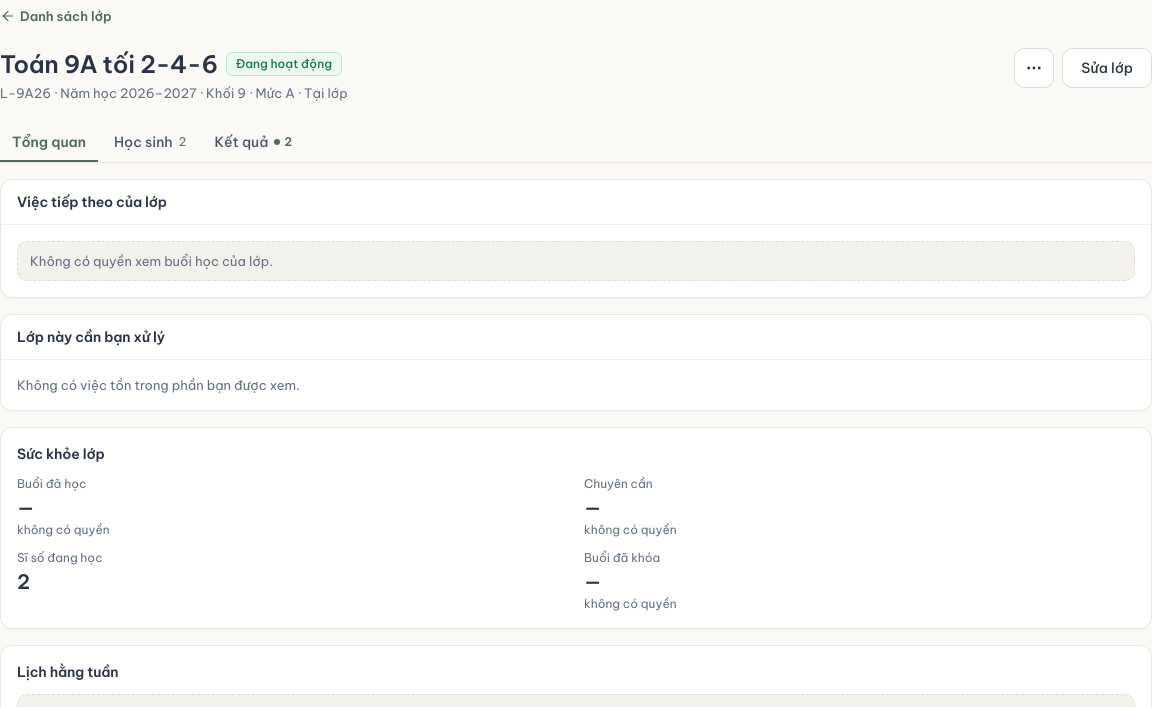
Test case: ClassStudentsTab › disables only Chuyển lớp when transfer targets are []
The image size is (1152, 707).
Click the tab "Học sinh 2" at (150, 142), box [102,122,198,162]
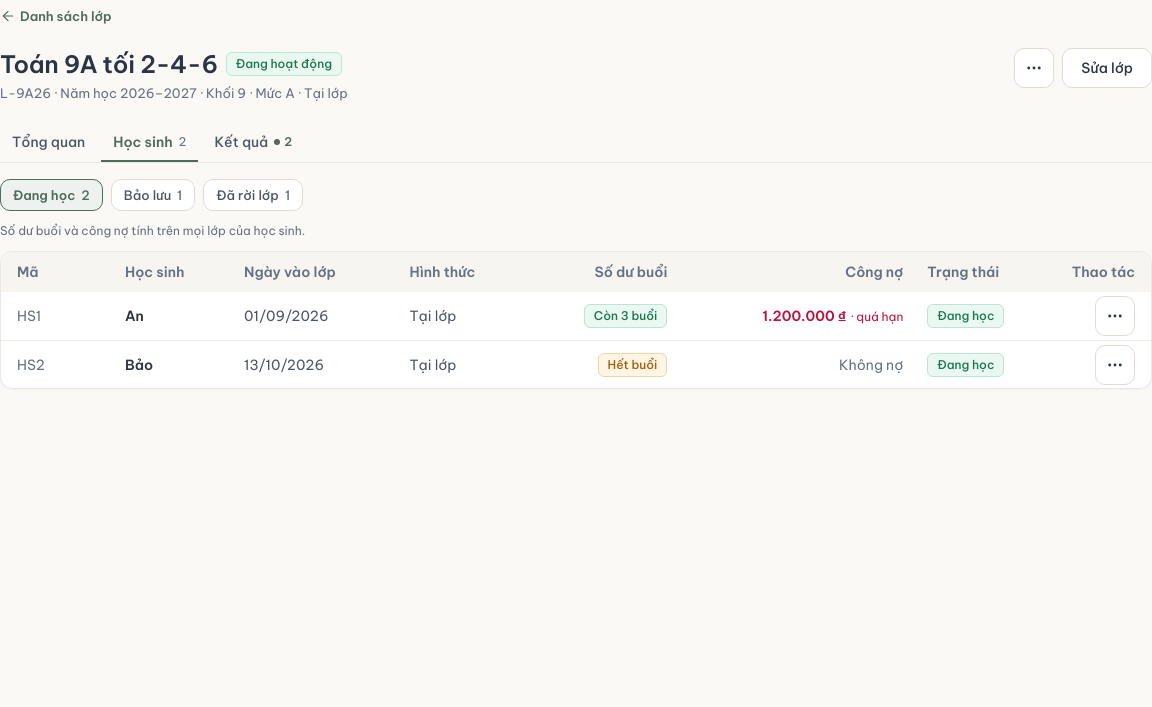
Click the button named "Thao tác ghi danh cho An" at (1115, 316), box [1095,296,1135,336]
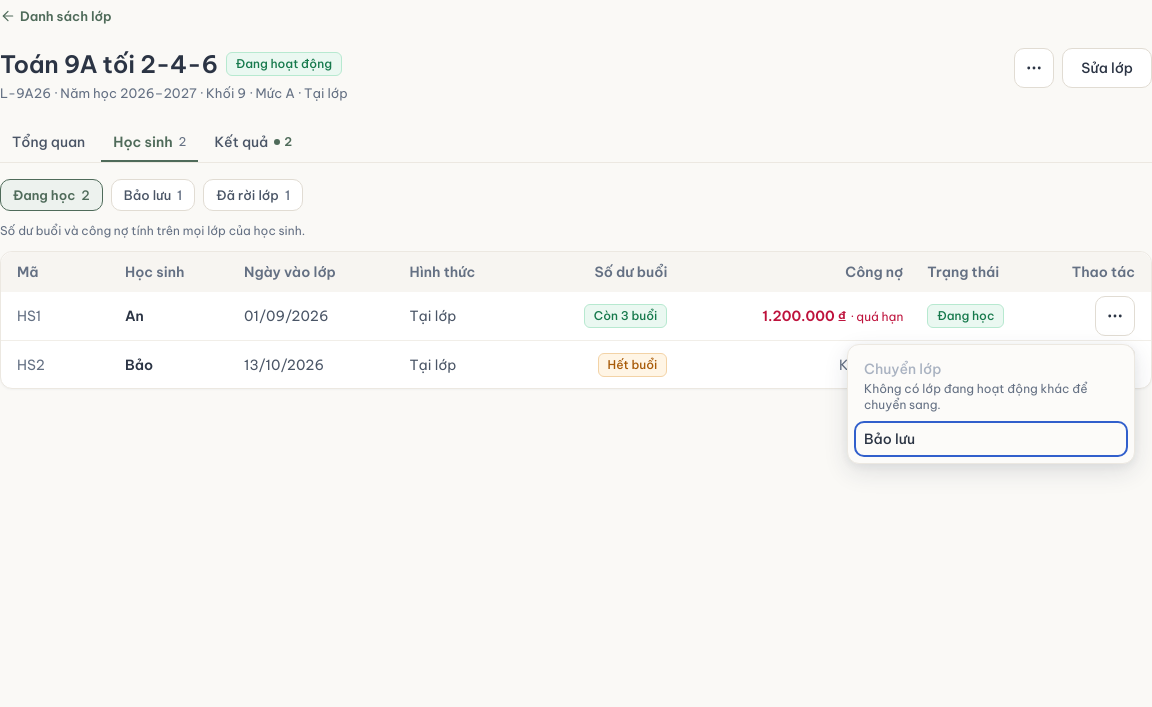
Now the text "Không có lớp đang hoạt động khác để chuyển sang." is shown, box [864,381,1118,413]
